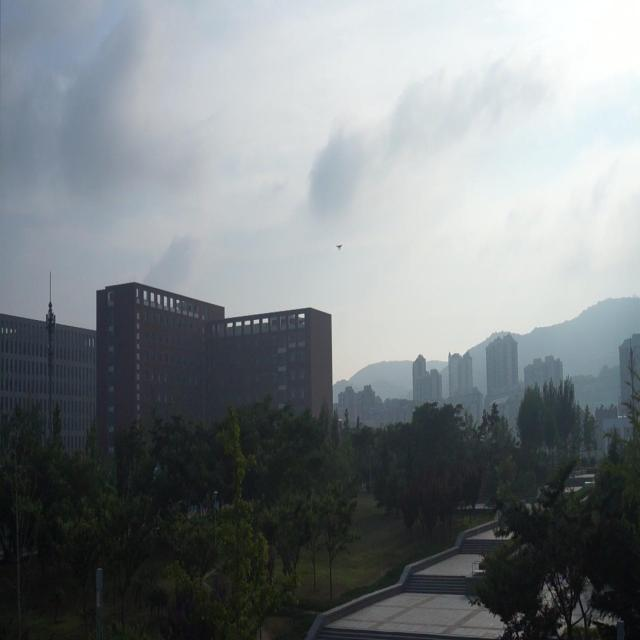drone: (334, 240, 344, 252)
